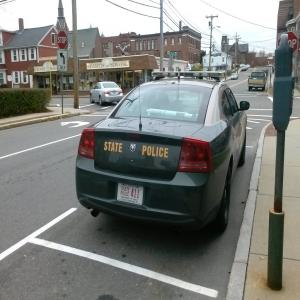Vehicle-registration-plate: (112, 181, 147, 209)
